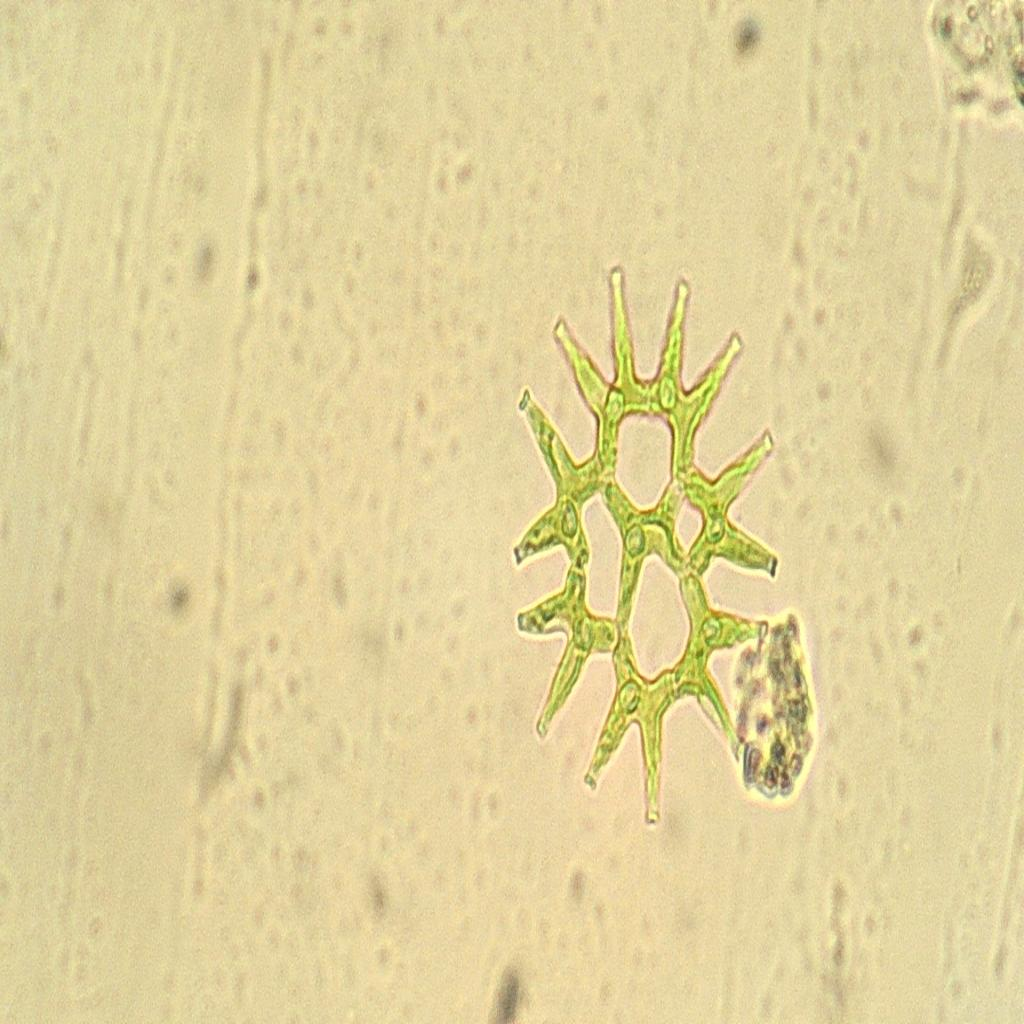Pediastrum_1T: (490, 225, 806, 847)
